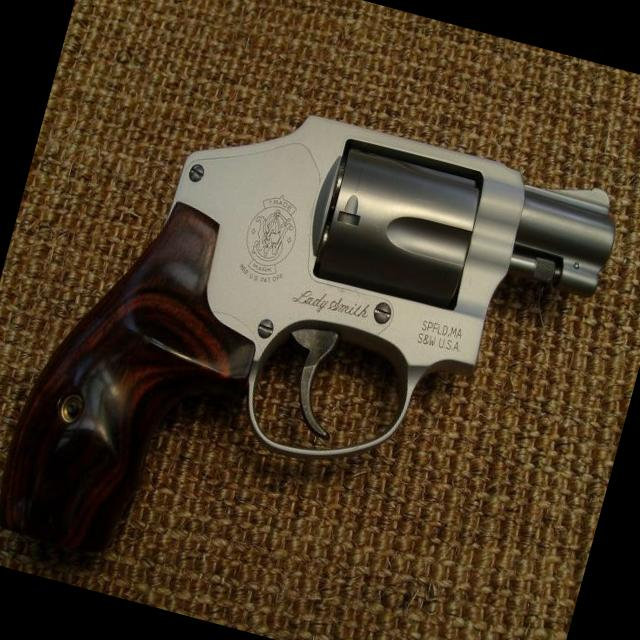Gun: (0, 116, 613, 549)
